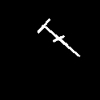double_crochet: (38, 19, 79, 55)
